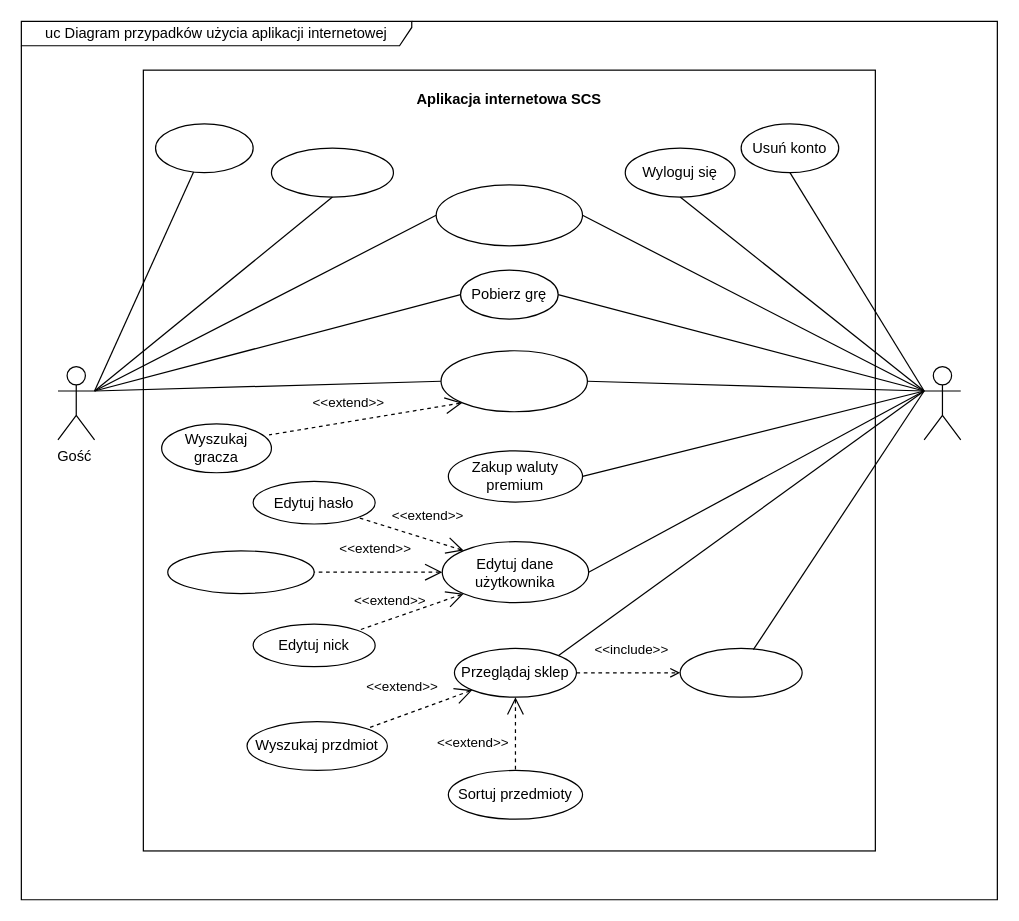
The diagram is 1019 pixels wide and 921 high, and some of its shapes have lost their labels. The box of each missing label's shape, as (x1, y1, x2, y2) in pixels:
Edytuj adres email: (167, 550, 314, 594)
Przeglądaj ranking graczy: (440, 350, 587, 412)
Użytkownik: (923, 365, 961, 440)
Wyślij wiadomość kontaktową: (435, 184, 583, 246)
Zakup przedmiot: (679, 647, 802, 697)
Zaloguj się: (154, 123, 253, 173)
Zarejestruj się: (270, 147, 393, 197)
